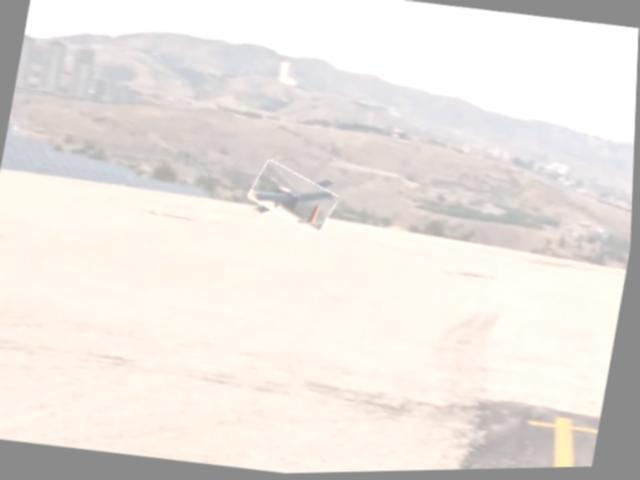insansiz-hava-araci: (248, 165, 343, 232)
